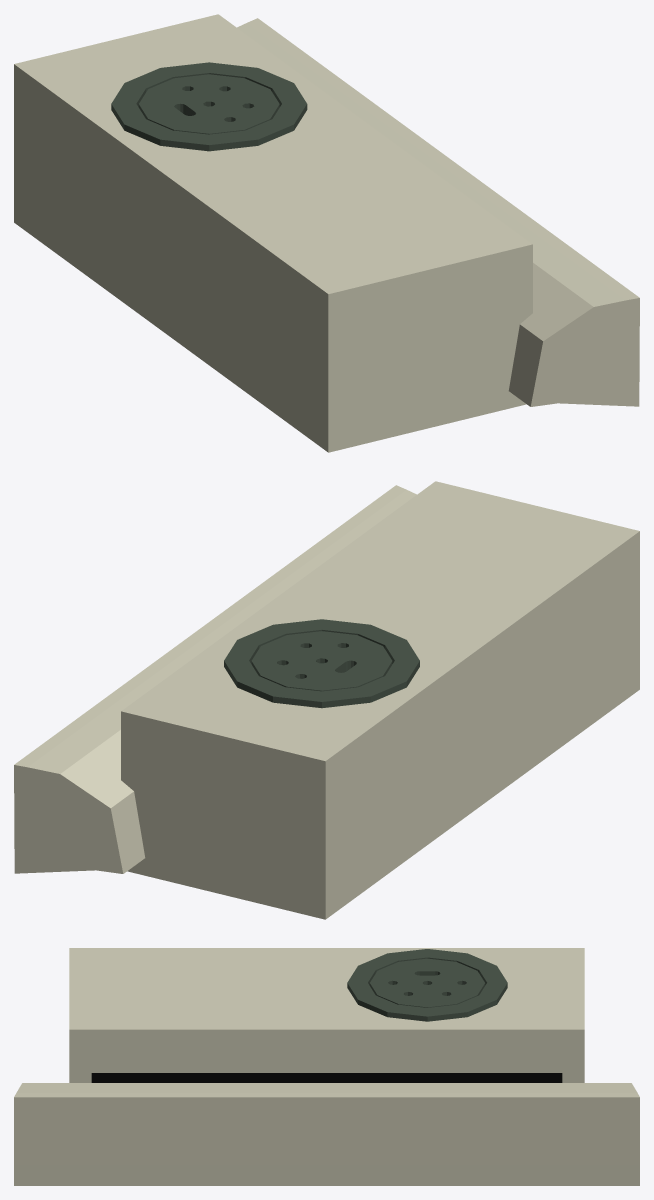
Rendered from StormDrain.fbx.
The picture shows the model from 3 angles, top to bottom: view 1: azimuth 30°, elevation 25°; view 2: azimuth 150°, elevation 25°; view 3: azimuth 270°, elevation 25°; orthographic projection. The views are drawn at different scales.
Parts seen in each view (by area): view 1: StormBase, ManholeCover; view 2: StormBase, ManholeCover; view 3: StormBase, ManholeCover.
Boxes of the visible parts, x1=… form: StormBase: x1=14, y1=14, x2=639, y2=452; ManholeCover: x1=138, y1=74, x2=279, y2=134; StormBase: x1=14, y1=481, x2=639, y2=919; ManholeCover: x1=251, y1=631, x2=392, y2=691; StormBase: x1=14, y1=948, x2=639, y2=1185; ManholeCover: x1=369, y1=958, x2=485, y2=1007.
Size of the model in its own units: 788 by 447 by 1878.
